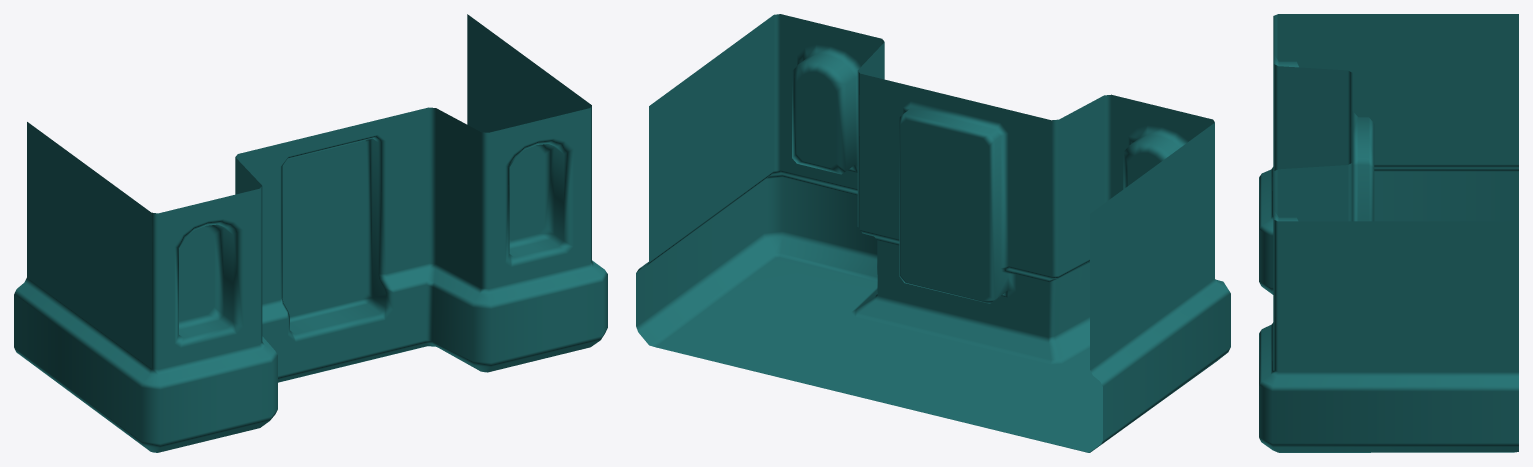
File: SM_Building_Bottom_01.fbx
3 renders of one model, left to right at view 1: azimuth 30°, elevation 25°; view 2: azimuth 150°, elevation 25°; view 3: azimuth 270°, elevation 25°, orthographic. The views are drawn at different scales.
Parts seen in each view (by area): view 1: Object012; view 2: Object012; view 3: Object012.
Part boxes in pixels (x1,y1,x2,y2): Object012: (14, 14, 607, 452); Object012: (636, 14, 1230, 452); Object012: (1259, 14, 1518, 452).
Size of the model in its own units: 635 by 315 by 318.
